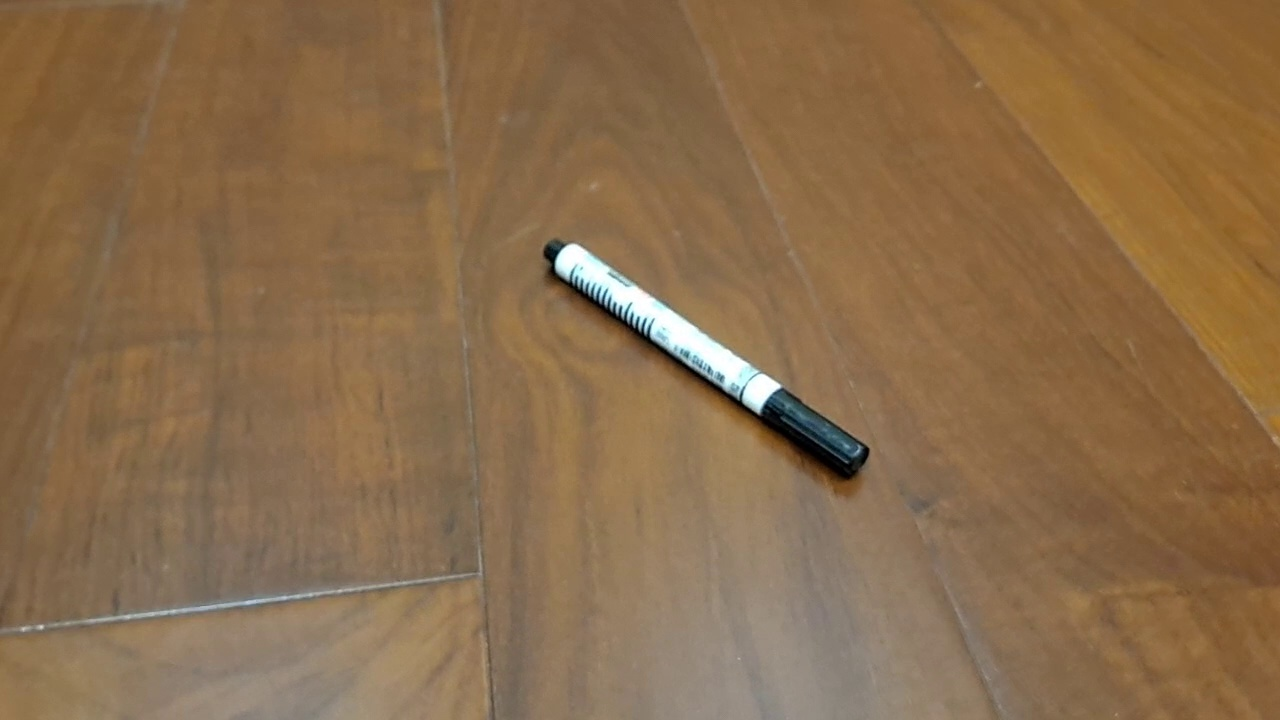pen: (543, 238, 870, 480)
